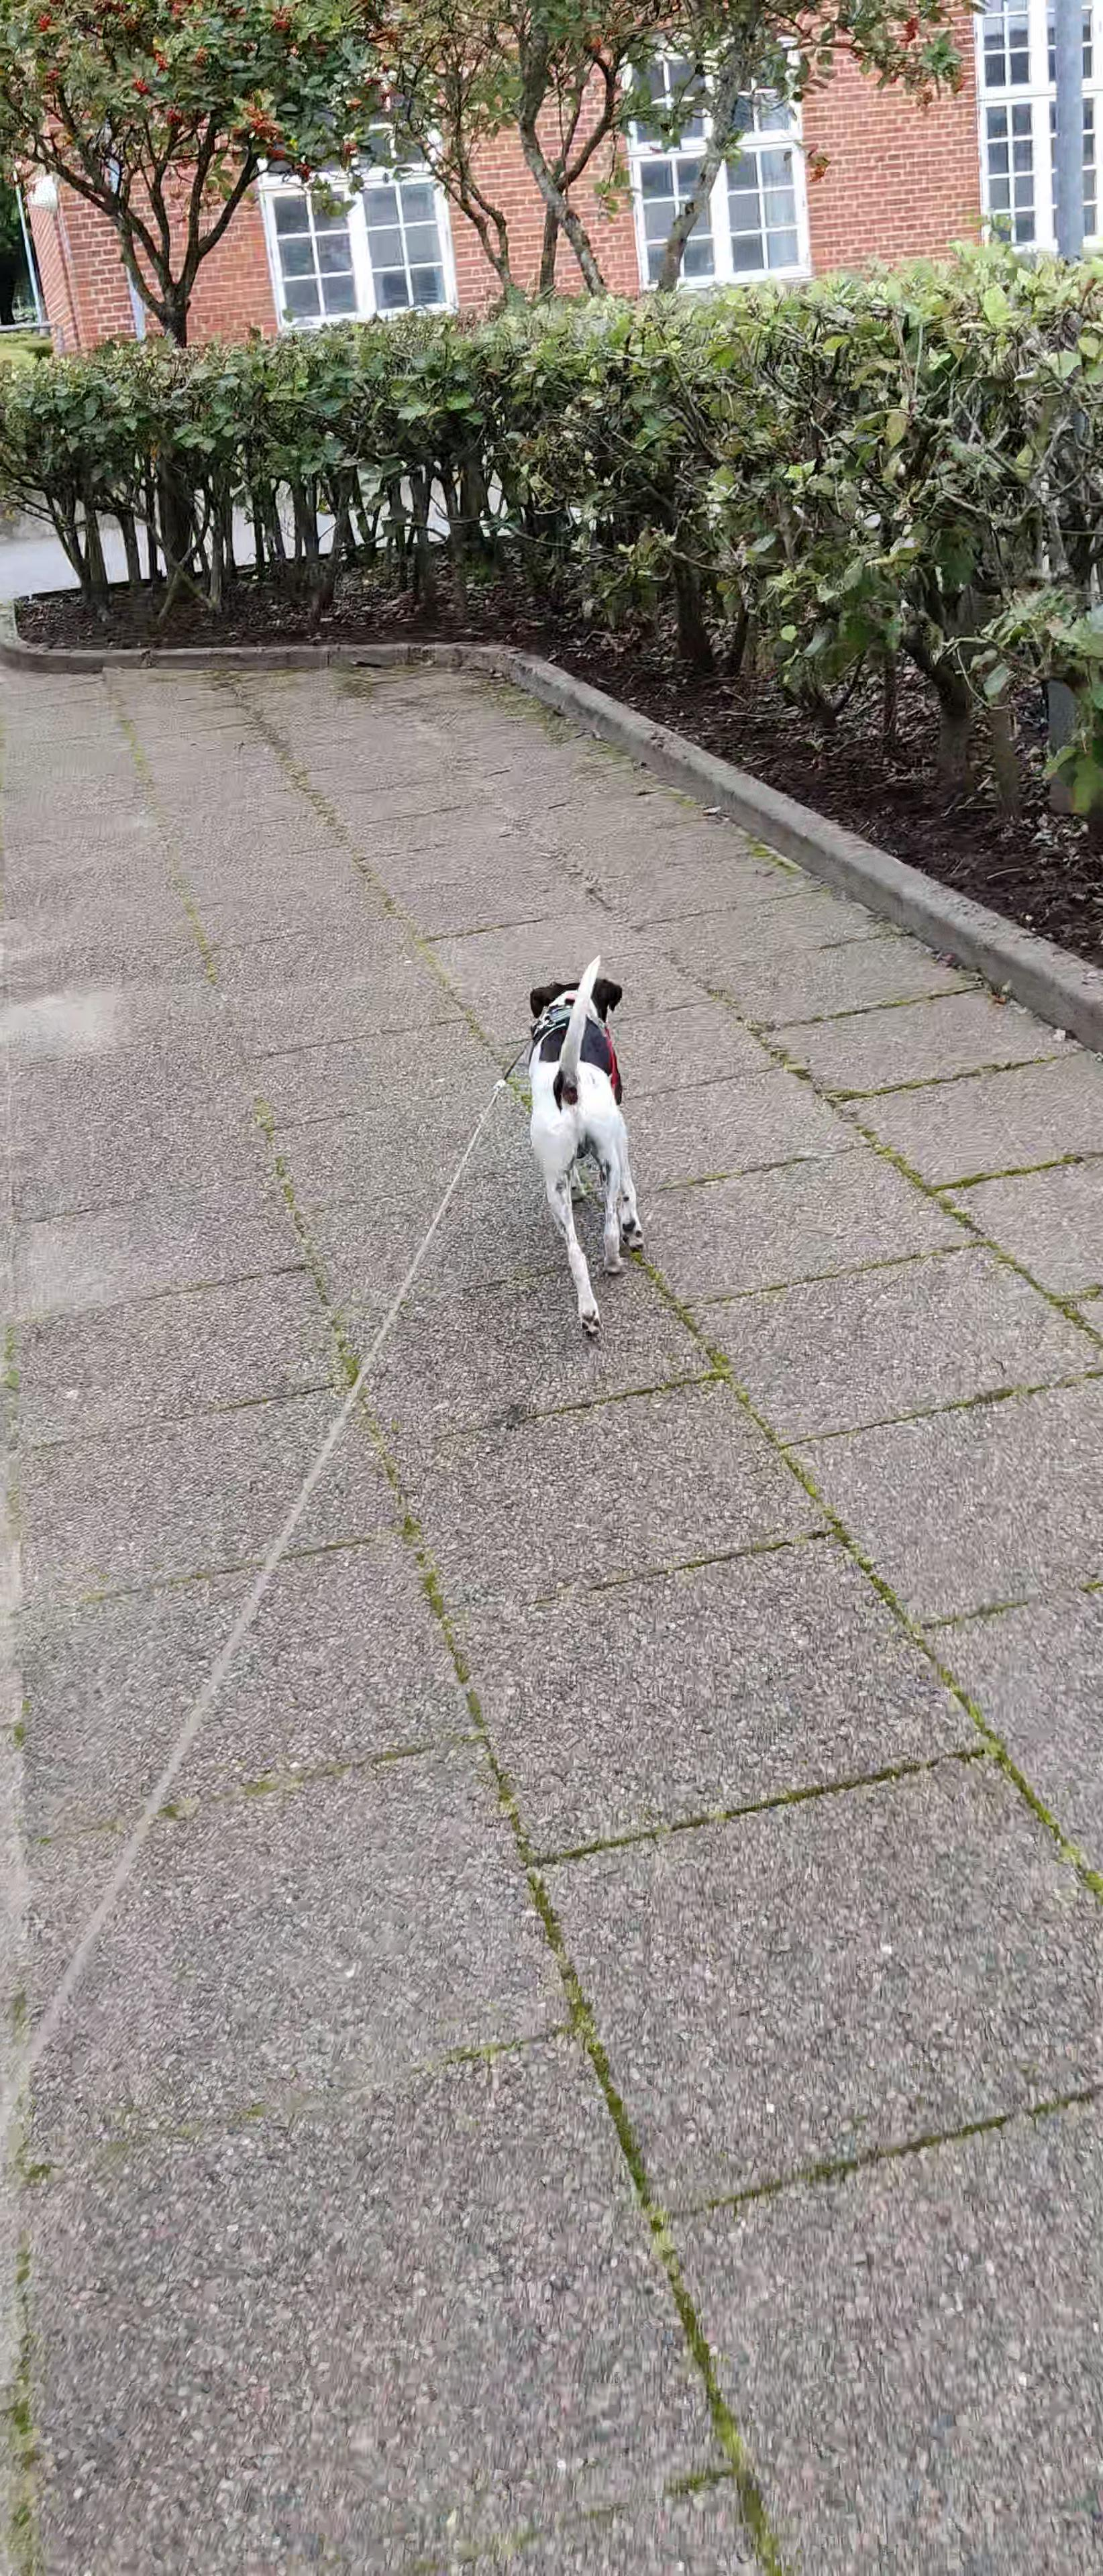Dog: (510, 933, 676, 1350)
